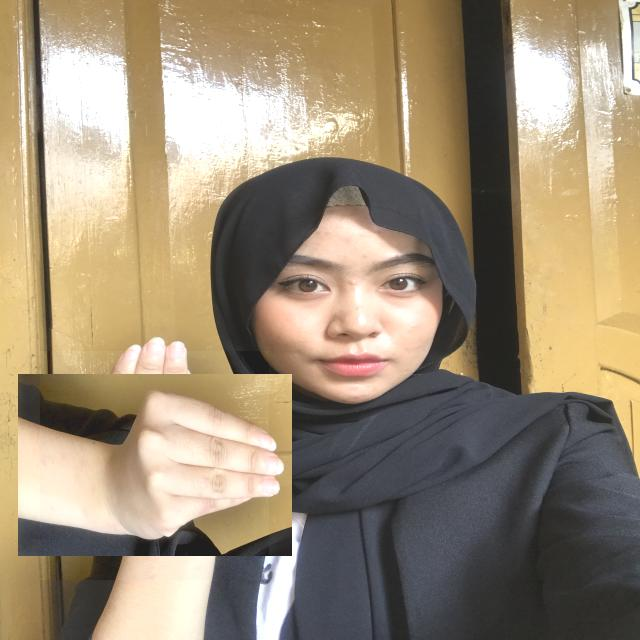kapan: (40, 351, 269, 580)
